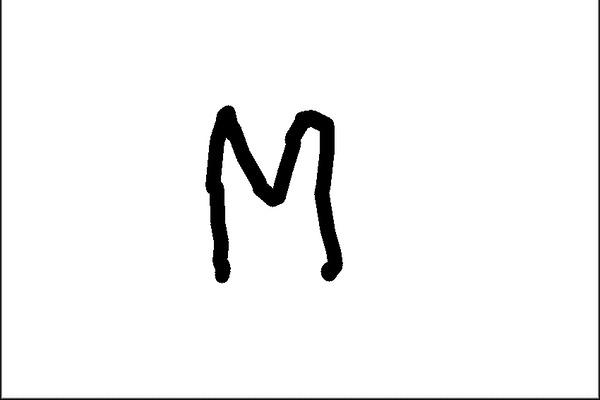M: (205, 104, 350, 285)
